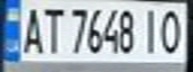4: (103, 4, 121, 54)
6: (84, 4, 106, 54)
7: (66, 3, 87, 54)
8: (118, 6, 139, 55)
A: (18, 2, 45, 55)
I: (139, 6, 163, 55)
O: (157, 6, 187, 55)
T: (36, 2, 66, 55)
